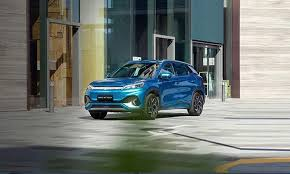Honda Ioniq: (81, 55, 212, 137)
